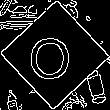O_N: (32, 29, 78, 81)
